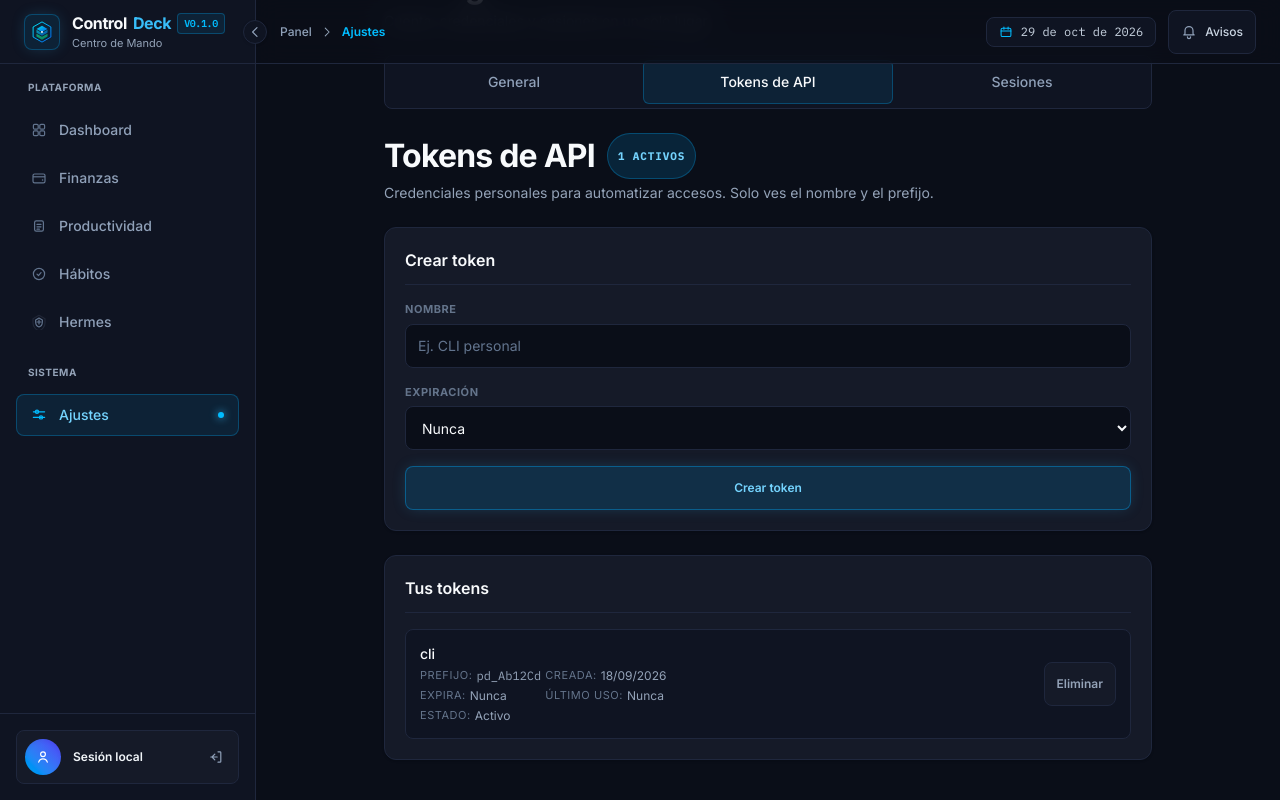
tokens page › asks for confirmation before revoking and refreshes the list
(page scrolled)
expect the text "cli" is shown: met, box [420, 645, 435, 662]
What coordinates should you click on to do the following:
click the button with aria-label "Eliminar: cli"
I would click on:
 (1080, 684)
Its box is [1044, 662, 1116, 706].
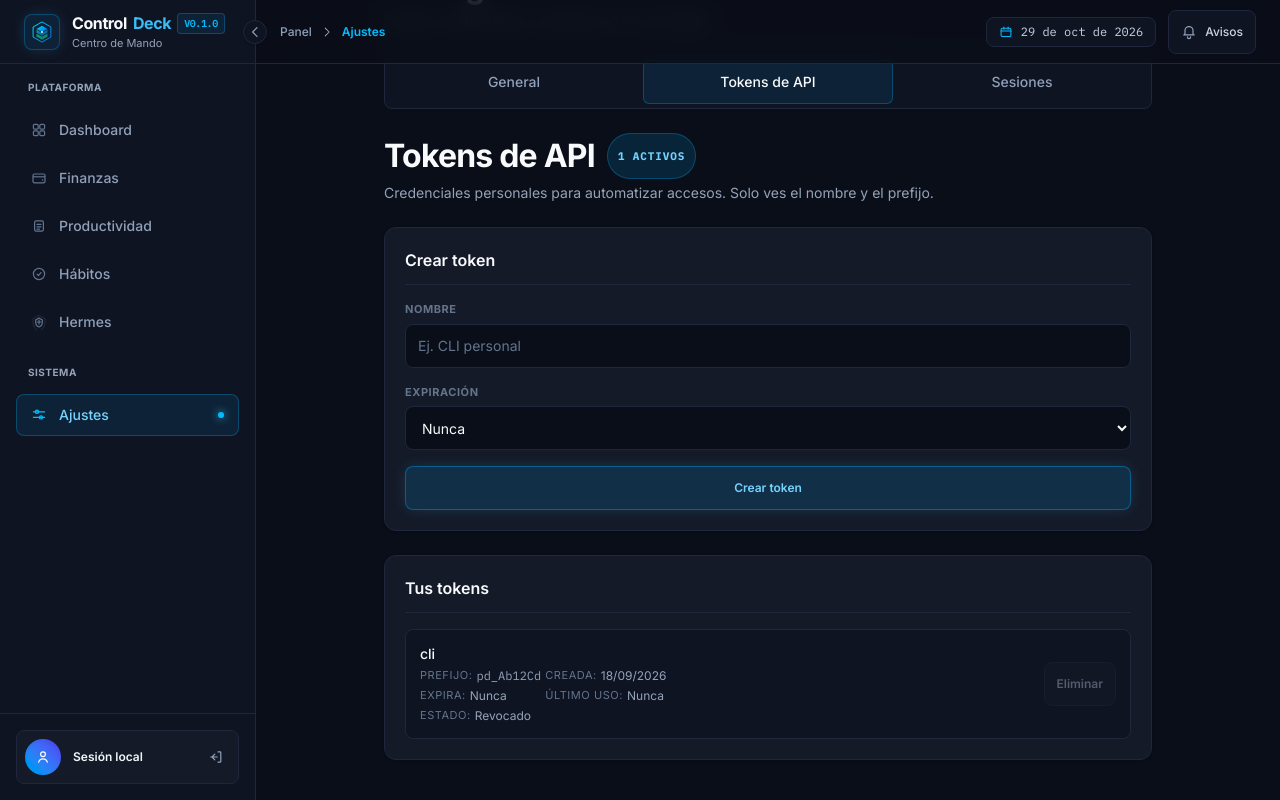
expect the text "Revocado" is shown: met, box [475, 708, 531, 724]
